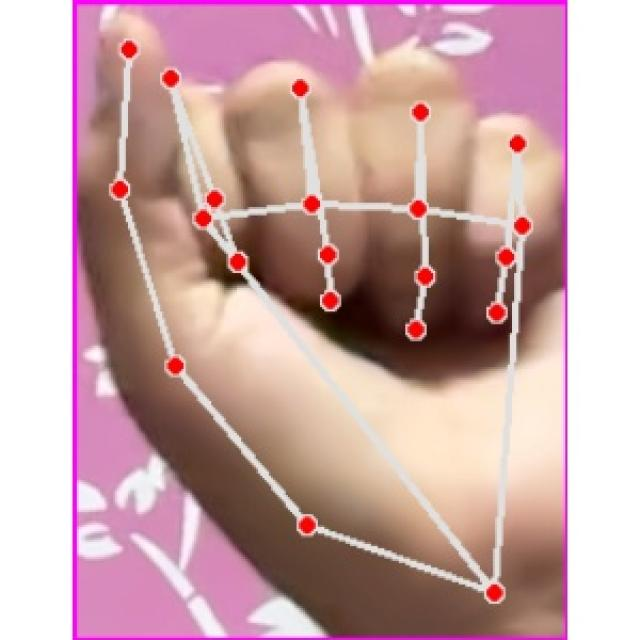A: (82, 1, 558, 630)
